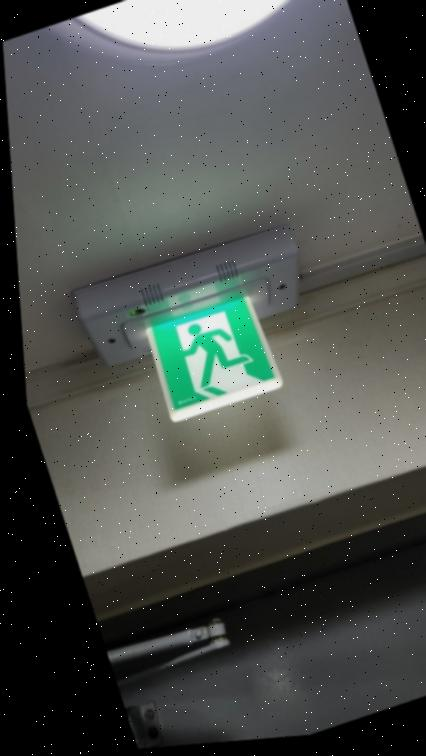emergency_exit: (70, 224, 301, 368), (143, 291, 283, 423)
